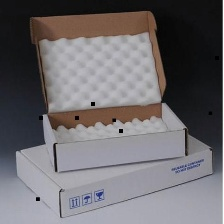book: (26, 3, 195, 174), (10, 122, 217, 220)
foam_box: (33, 27, 165, 115), (48, 112, 174, 146)
